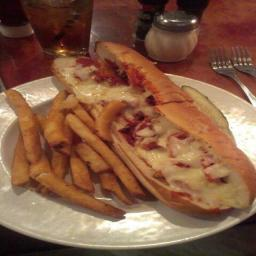hotdog: (52, 44, 254, 228), (0, 83, 152, 221)
